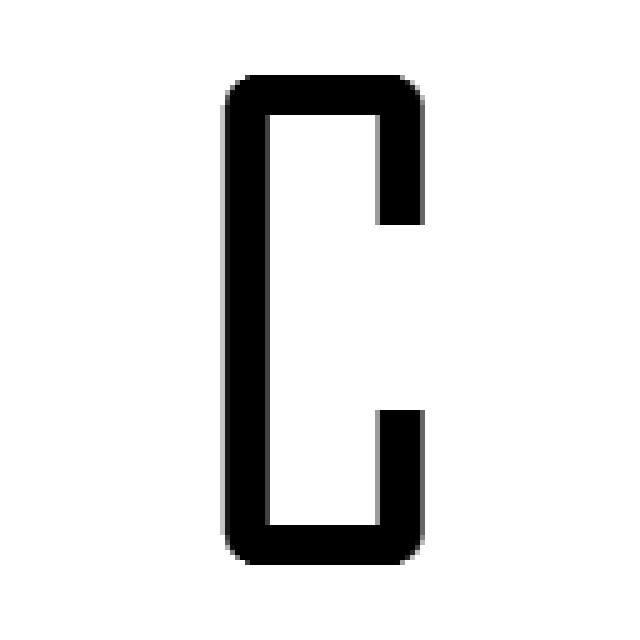C: (215, 65, 430, 565)
